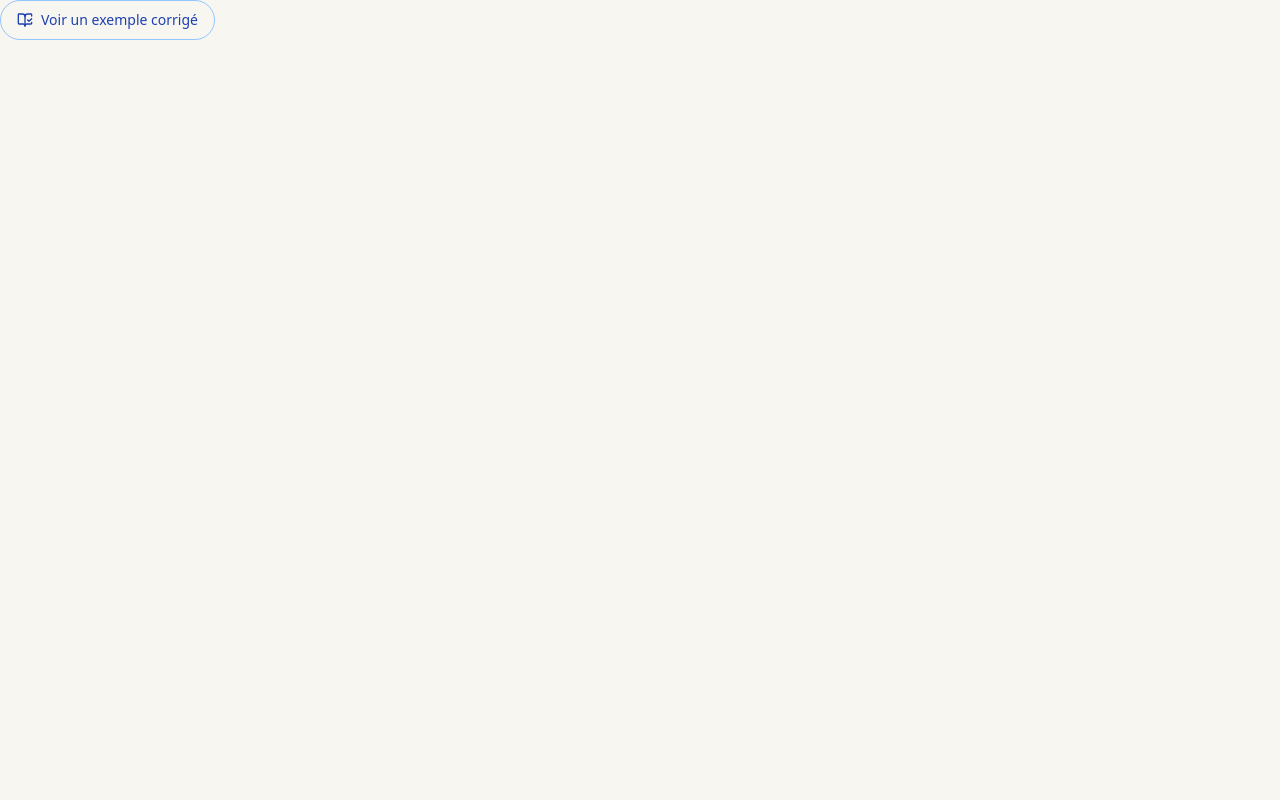
Test: WorkedExamplePanel › masque le corrigé avant le clic puis affiche le modèle et les étapes
The image size is (1280, 800).
Expected: the text "Le train a dix minutes de retard." is not shown
Click the button "Voir un exemple corrigé": (107, 20) [0,0,215,40]
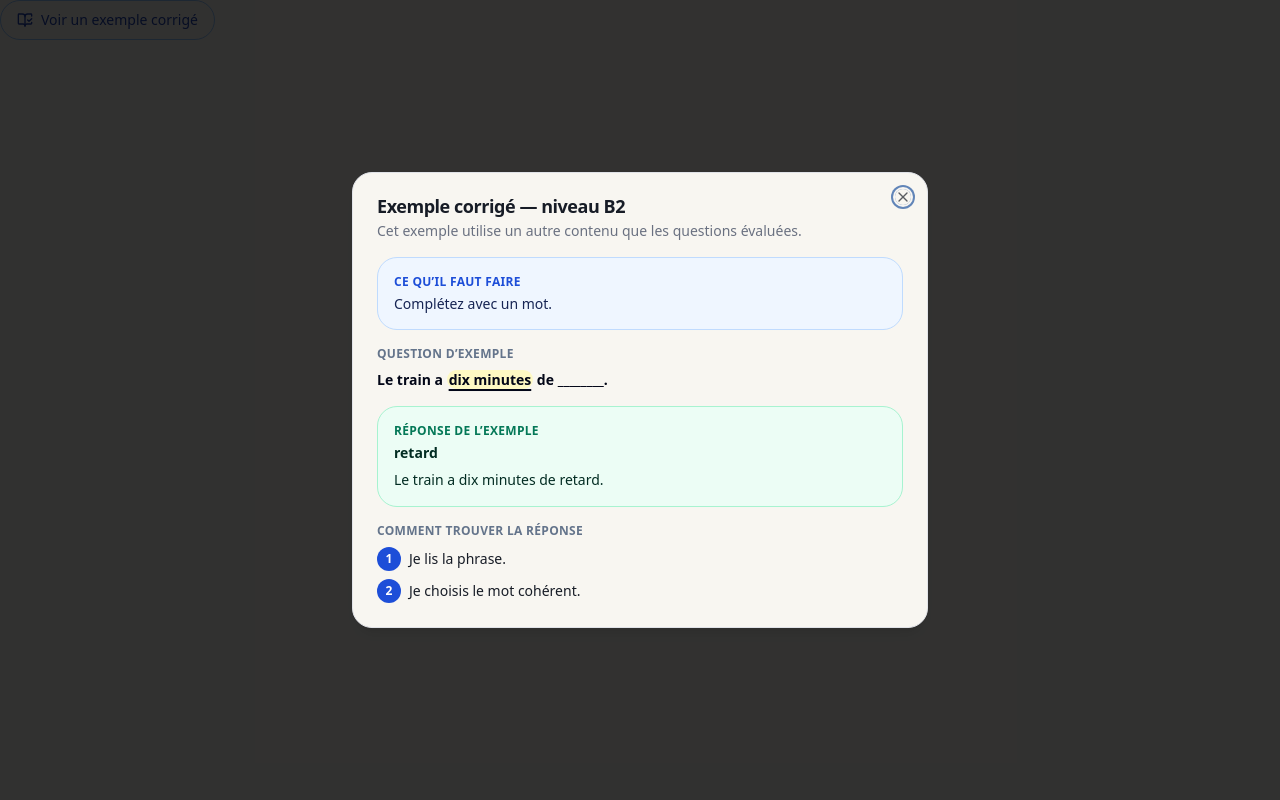
Expected: the text "Le train a dix minutes de retard." is shown, [394,470,604,489]
Expected: the text "Comment trouver la réponse" is shown, [377,522,583,539]
Expected: the text "niveau B2" is shown, [377,194,625,218]
